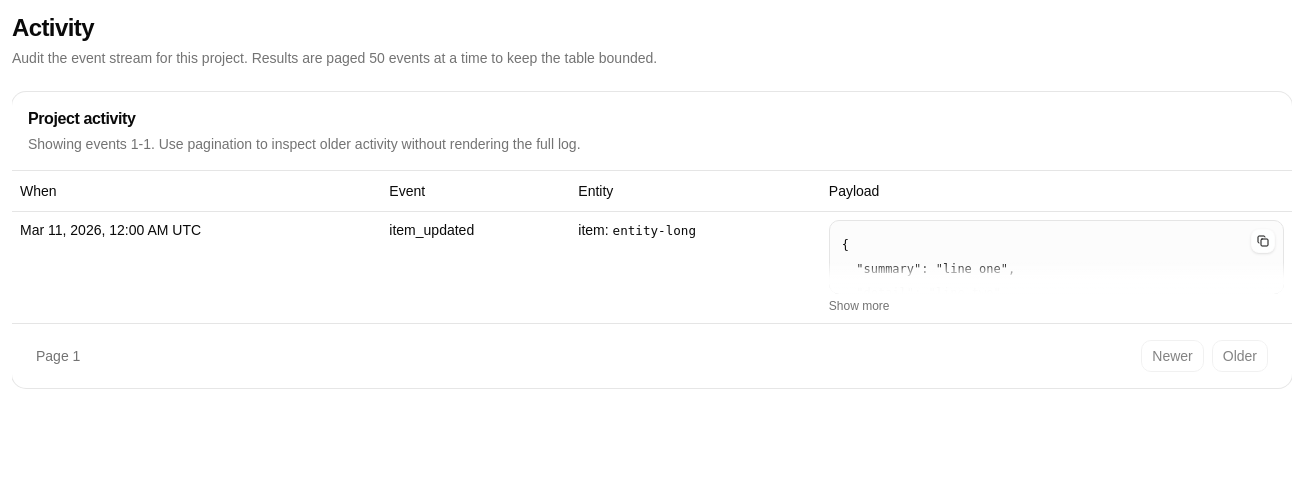
Test: ActivityPage › uses collapsible disclosure semantics for long payloads
Check: the button named "Copy payload" is shown, box [1251,228,1275,252]
What coordinates should you click on to do the following:
click the button "Show more"
I would click on:
 (859, 306)
Its box is [829,298,890,314].
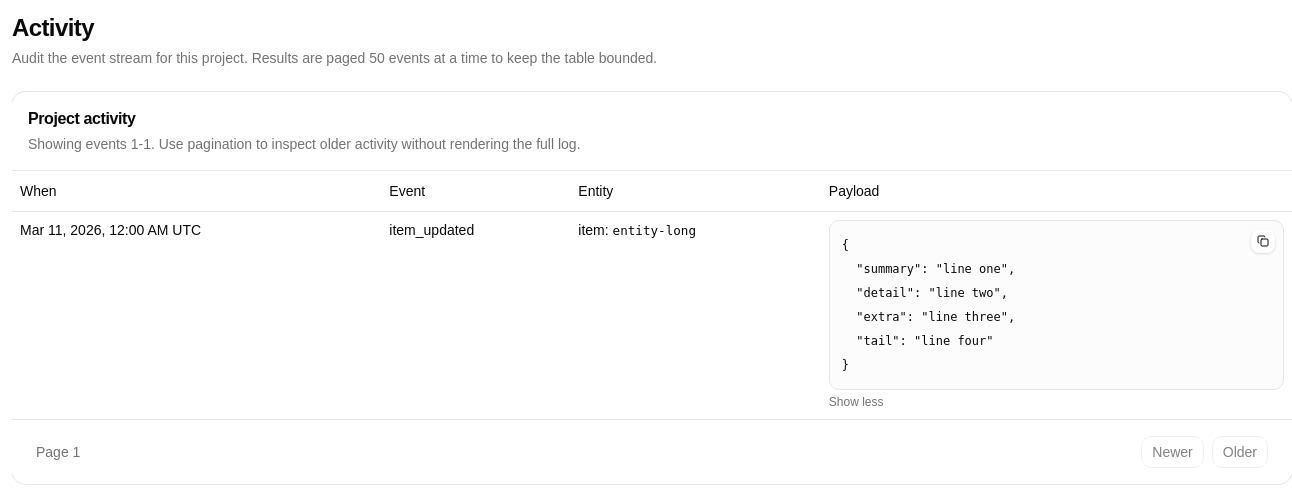
Check: the button "Show less" is expanded, box [829,394,884,410]
